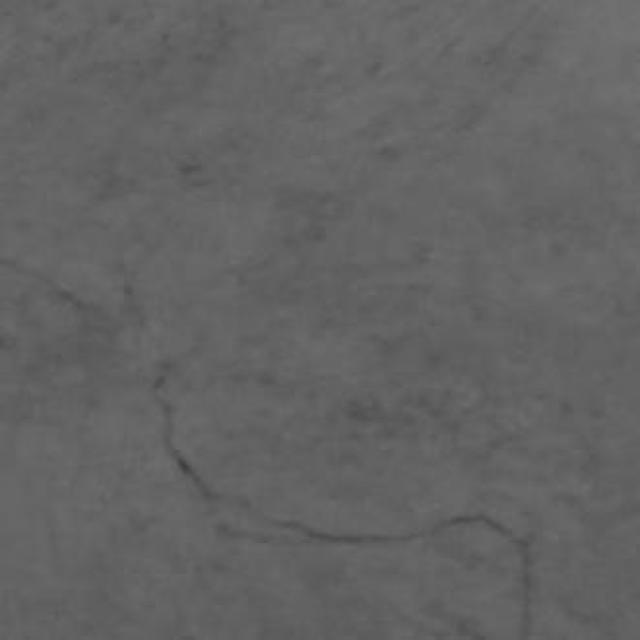crack: (152, 359, 533, 639), (152, 361, 426, 546), (433, 512, 533, 639), (0, 256, 104, 318)
